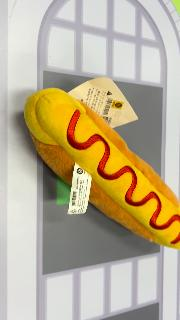hotdog: (26, 88, 180, 250)
